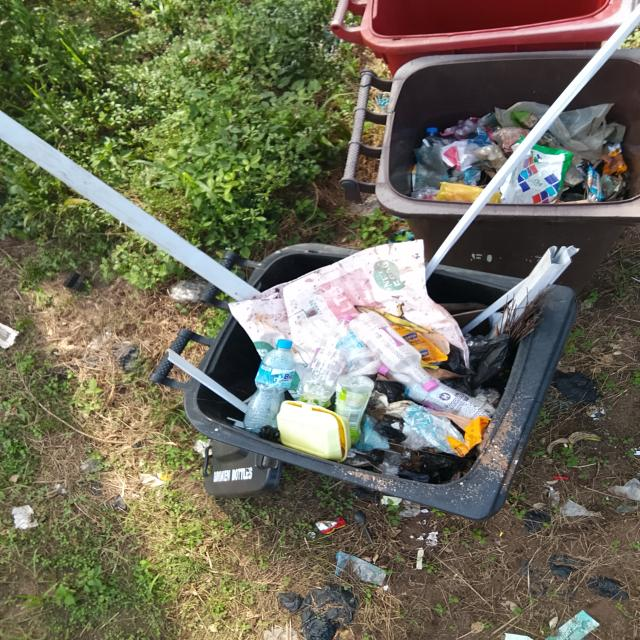half-full: (379, 45, 640, 222), (353, 0, 640, 47)
overflowing: (178, 241, 576, 529)
